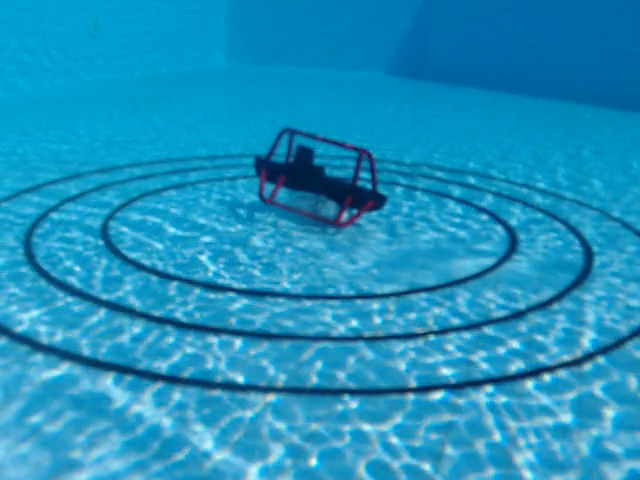submarine: (252, 126, 388, 230)
